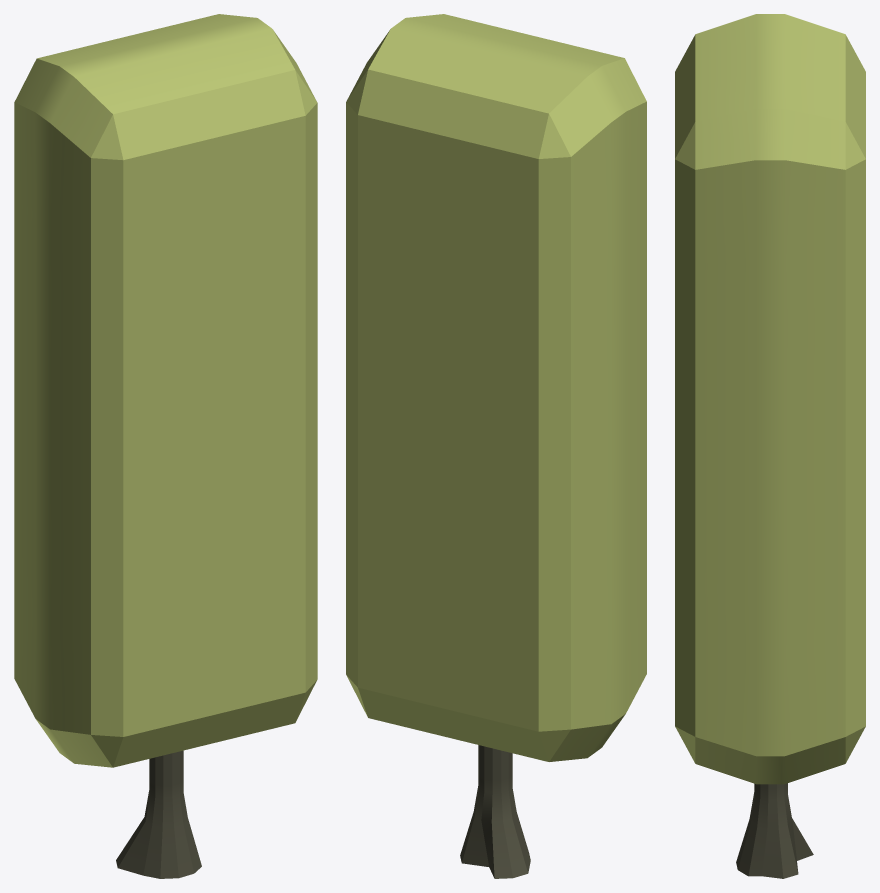
The model's file is HighTree1.fbx.
3 renders of one model, left to right at view 1: azimuth 30°, elevation 25°; view 2: azimuth 150°, elevation 25°; view 3: azimuth 270°, elevation 25°, orthographic.
Parts seen in each view (by area): view 1: pasted__Crown_Big, pasted__Bark; view 2: pasted__Crown_Big, pasted__Bark; view 3: pasted__Crown_Big, pasted__Bark.
Part boxes in pixels (<box>): pasted__Crown_Big: <box>14,14,317,767</box>; pasted__Bark: <box>116,750,201,878</box>; pasted__Crown_Big: <box>346,14,646,761</box>; pasted__Bark: <box>460,745,530,878</box>; pasted__Crown_Big: <box>675,14,865,784</box>; pasted__Bark: <box>736,783,813,878</box>.
Size of the model in its own units: 2.19 by 6.94 by 1.5.
